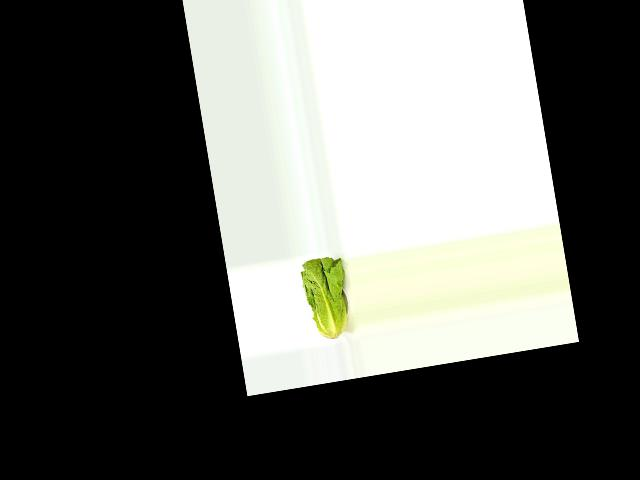lettuce: (297, 254, 355, 343)
